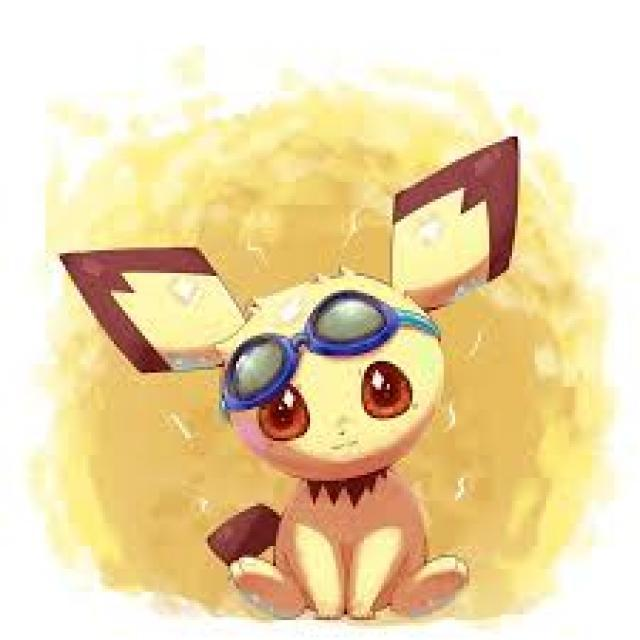pichu: (76, 168, 558, 640)
